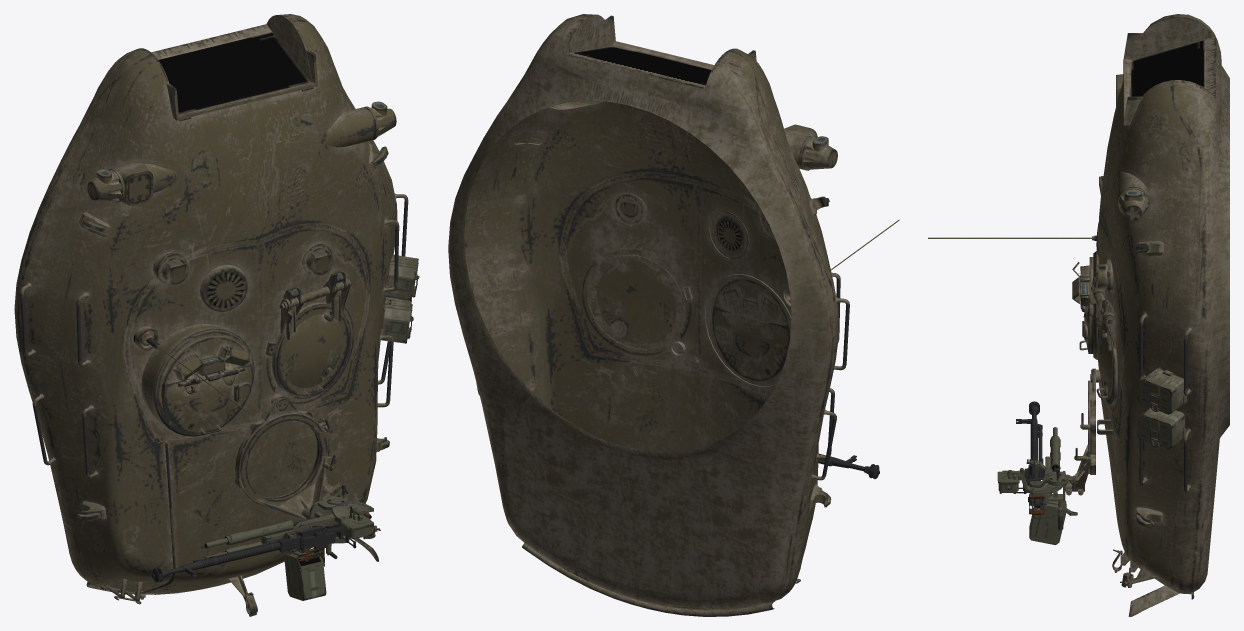
File: Turret_01.glb
3 renders of one model, left to right at view 1: azimuth 30°, elevation 25°; view 2: azimuth 150°, elevation 25°; view 3: azimuth 270°, elevation 25°, orthographic. The views are drawn at different scales.
Parts seen in each view (by area): view 1: set_0_group_0; view 2: set_0_group_0; view 3: set_0_group_0.
Boxes of the visible parts, x1,y1,x2,y2 form: set_0_group_0: (14, 14, 419, 616); set_0_group_0: (448, 14, 899, 616); set_0_group_0: (928, 14, 1229, 616).
Bounding box in the file's own units: 2.87 × 3.91 × 2.05.
1 material, 1 textured.
